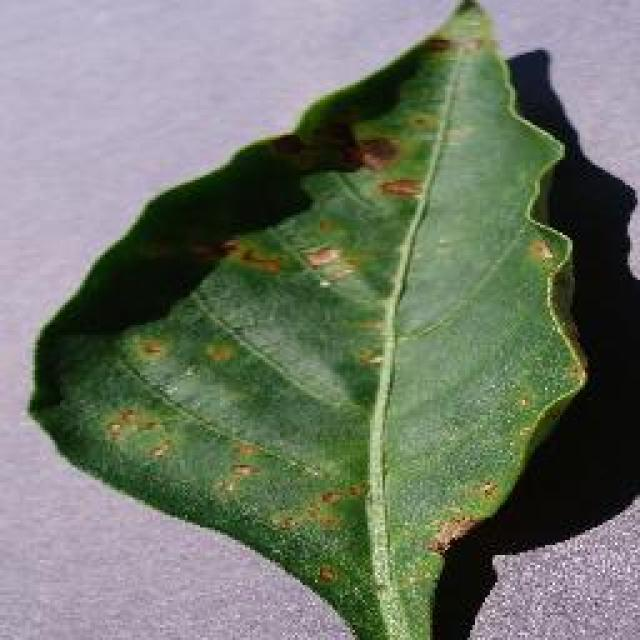Chilli_Bacterial_Spot: (25, 0, 593, 638), (97, 113, 435, 545), (212, 232, 362, 292), (272, 475, 372, 537), (97, 403, 175, 465), (208, 438, 268, 502), (295, 238, 360, 290), (217, 235, 285, 280), (422, 510, 480, 558), (350, 130, 402, 175), (375, 172, 425, 202), (298, 240, 342, 272), (198, 335, 238, 367), (523, 232, 555, 268), (132, 332, 168, 362), (310, 560, 340, 588), (475, 475, 503, 505)
